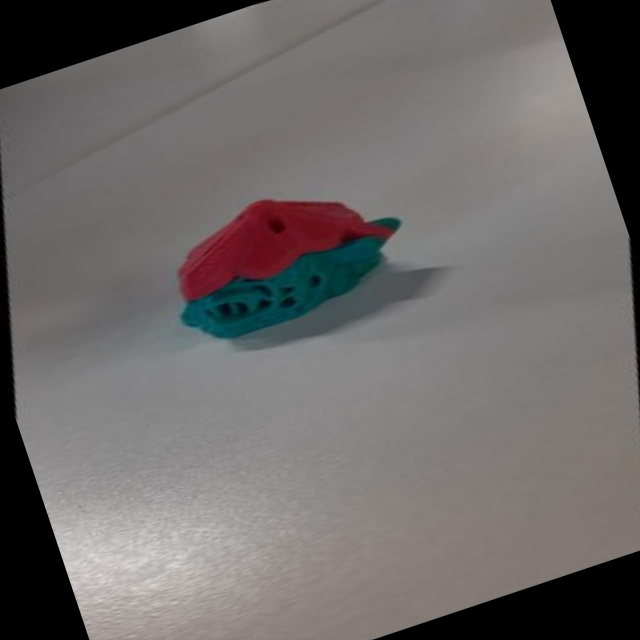House: (133, 147, 439, 372)
